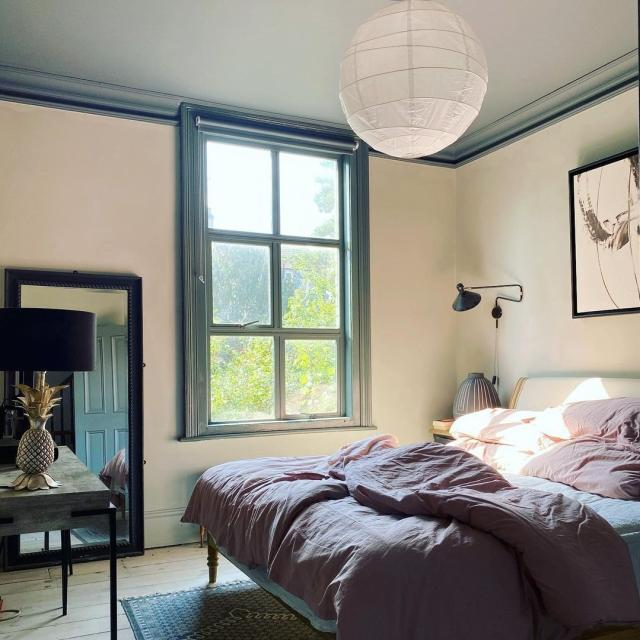bed: (174, 388, 640, 640)
